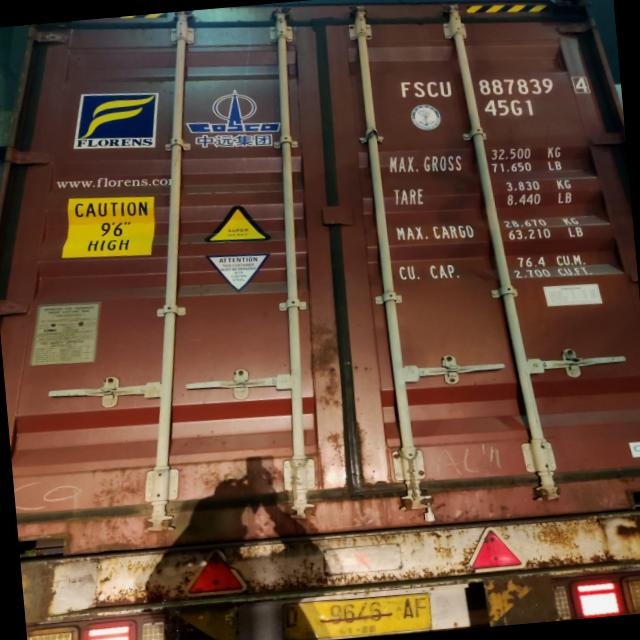seal: (416, 493, 439, 526)
